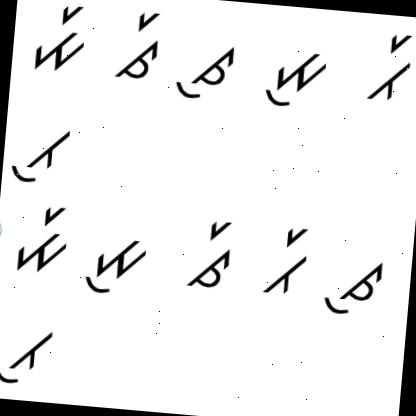bar: (361, 27, 416, 109), (258, 221, 314, 300)
baw: (5, 117, 73, 188), (0, 318, 56, 390)
car: (183, 212, 244, 294), (112, 6, 170, 84)
caw: (318, 240, 388, 321), (172, 36, 237, 104)
mar: (10, 194, 75, 277), (26, 3, 92, 74)
maw: (76, 228, 154, 300), (256, 41, 332, 113)
